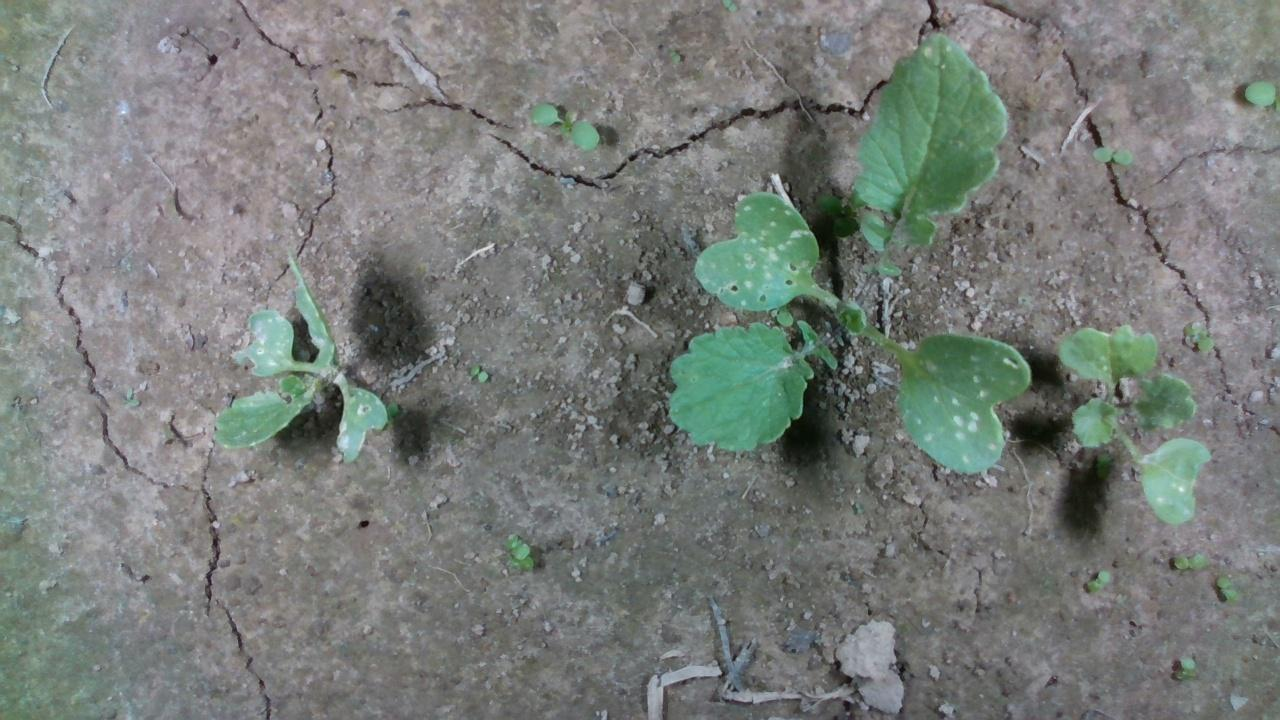weed: (523, 94, 596, 153), (499, 524, 542, 576), (1176, 317, 1216, 364), (1087, 135, 1139, 170), (1165, 647, 1201, 680), (118, 383, 146, 422), (1165, 547, 1200, 577), (1087, 564, 1111, 596), (465, 360, 490, 389)
